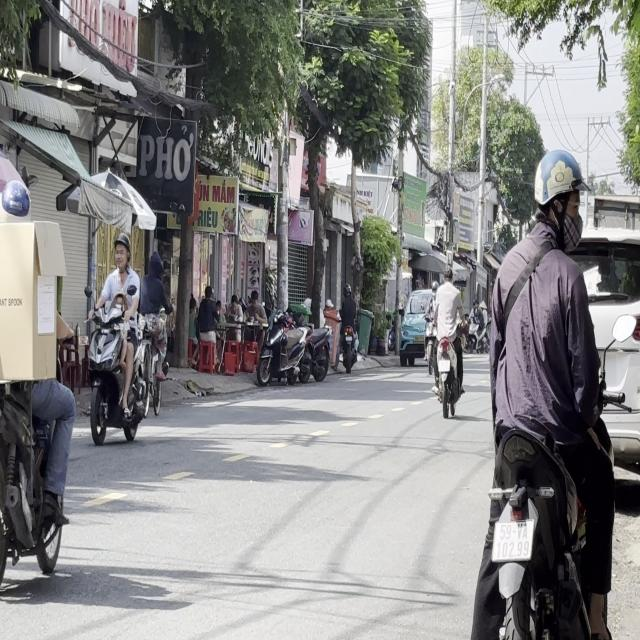helmet: (532, 148, 586, 240), (1, 176, 31, 220), (112, 232, 130, 270)
licenseplate: (469, 142, 627, 635), (0, 148, 78, 600), (84, 230, 144, 446)
nohelmet: (492, 520, 532, 560)
